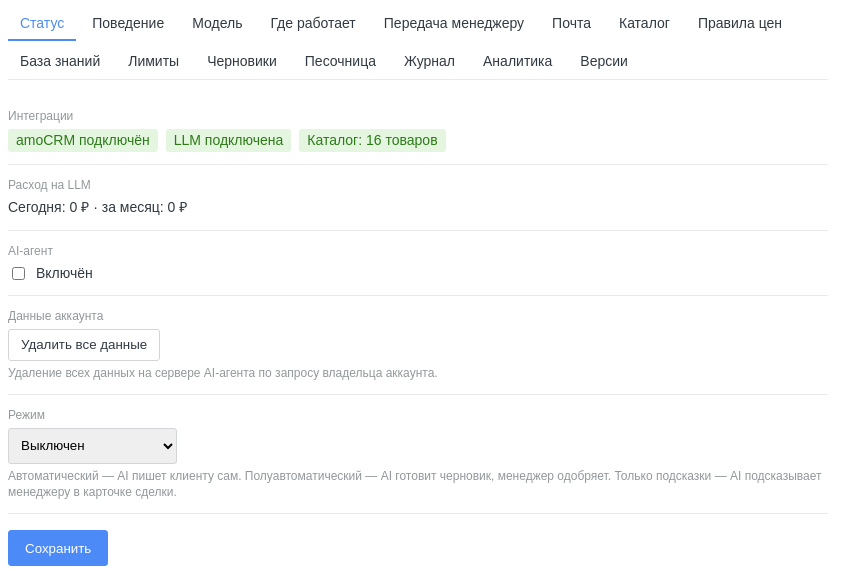
Test case: вкладка «Версии» › история с разделами, откат по подтверждению
Click the button "Версии" at (604, 62), box [568,45,640,79]
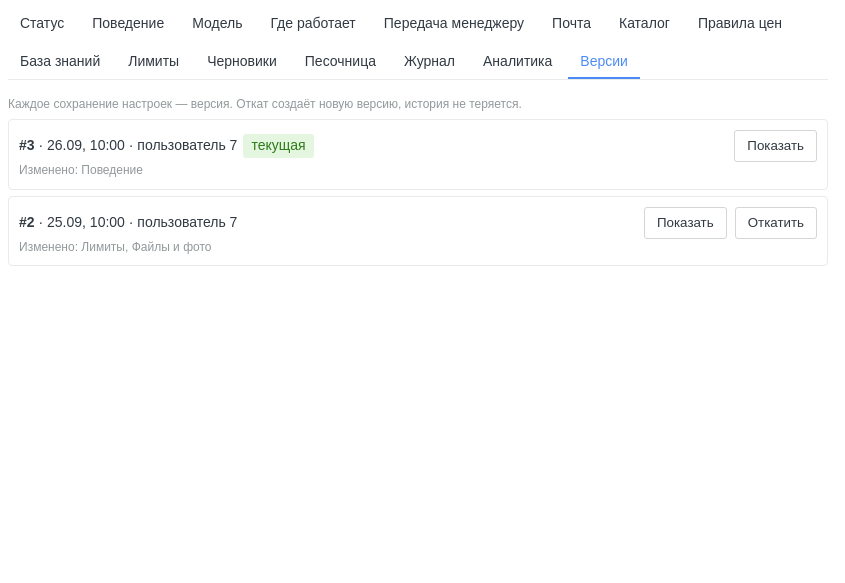
Expected: the text "#3" is shown, [19,137,35,153]
Expected: the text "текущая" is shown, [243,134,314,158]
Expected: the text "Изменено: Лимиты, Файлы и фото" is shown, [19,240,212,254]
Click the button "Показать" in the row of "25.09, 10:00" at (685, 223), box [644,207,727,239]
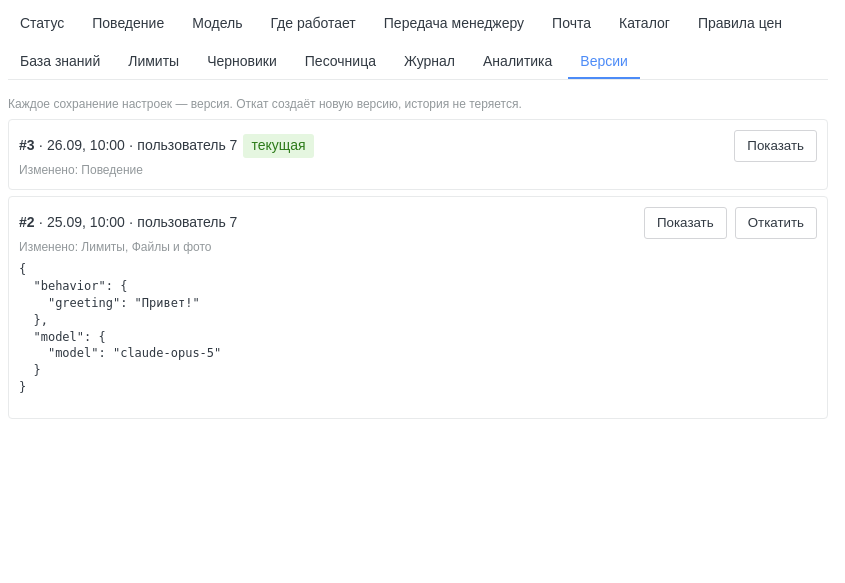
Expected: the text "Привет!" is shown, [19,262,221,394]
Click the button "Откатить" at (776, 223), box [735,207,817,239]
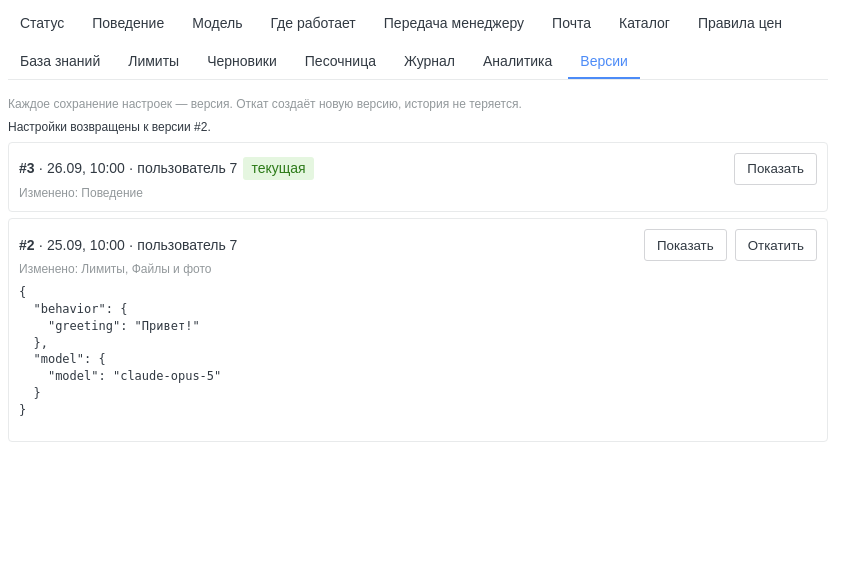
Expected: the text "возвращены к версии #2" is shown, [8,120,211,134]
